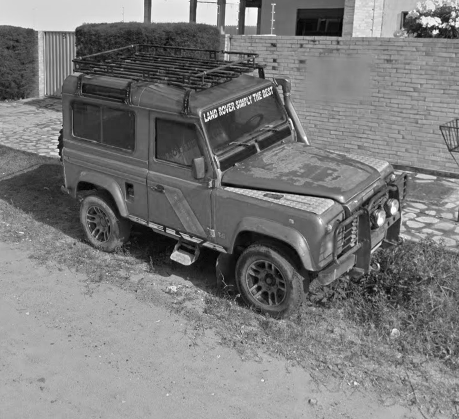car: (54, 39, 411, 323)
